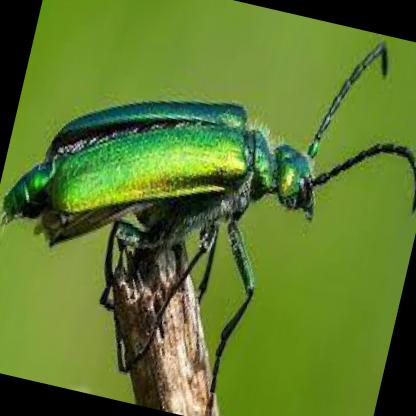blister beetle: (0, 40, 416, 416)
